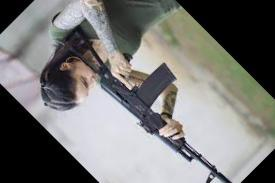larga: (61, 24, 232, 183)
